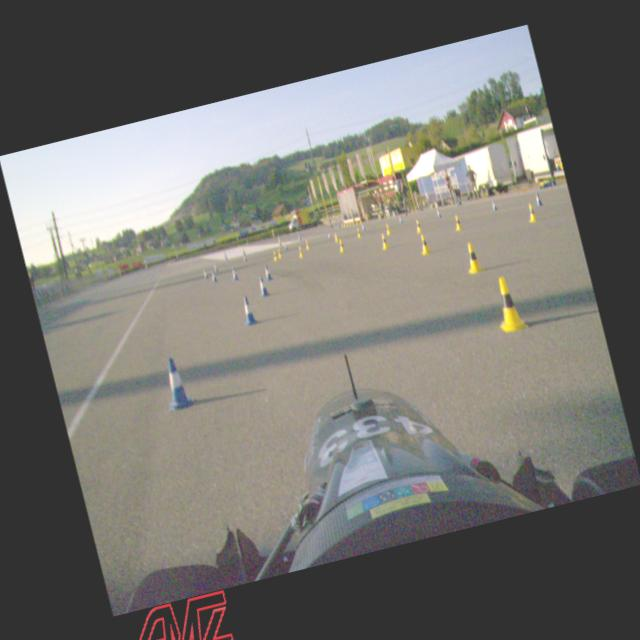blue_cone: (157, 354, 196, 412), (238, 295, 257, 326), (256, 274, 270, 297), (262, 263, 274, 280), (533, 191, 543, 206), (230, 266, 238, 280), (490, 198, 498, 211), (210, 270, 217, 282), (435, 208, 442, 218), (397, 214, 404, 224), (202, 268, 208, 279), (360, 222, 365, 230)
yellow_cone: (488, 273, 528, 335), (461, 240, 484, 274), (416, 233, 432, 255), (525, 202, 538, 222), (378, 232, 389, 250), (452, 213, 463, 230), (336, 238, 346, 252), (413, 218, 422, 233), (297, 245, 305, 257), (384, 223, 392, 234), (271, 250, 278, 261), (355, 227, 362, 238), (276, 248, 283, 258), (332, 232, 338, 243), (304, 240, 310, 250)
